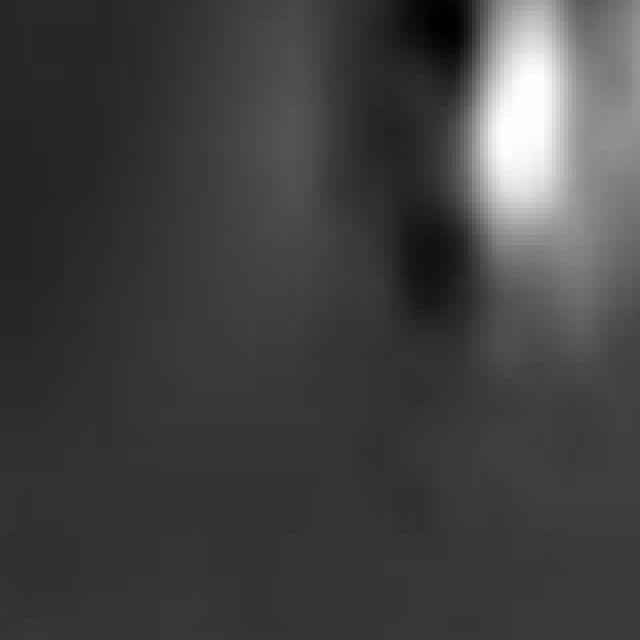person: (449, 1, 601, 342), (577, 1, 640, 278)
